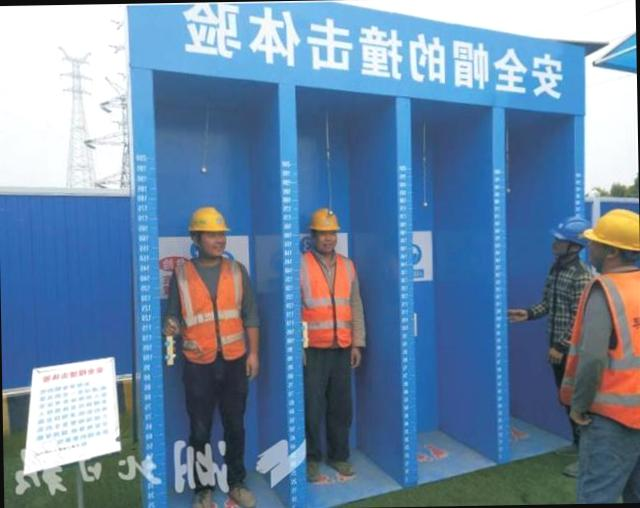helmet: (577, 208, 640, 267), (183, 204, 236, 238), (306, 206, 346, 236)
person: (163, 199, 273, 508), (548, 200, 640, 504), (297, 198, 373, 485)
